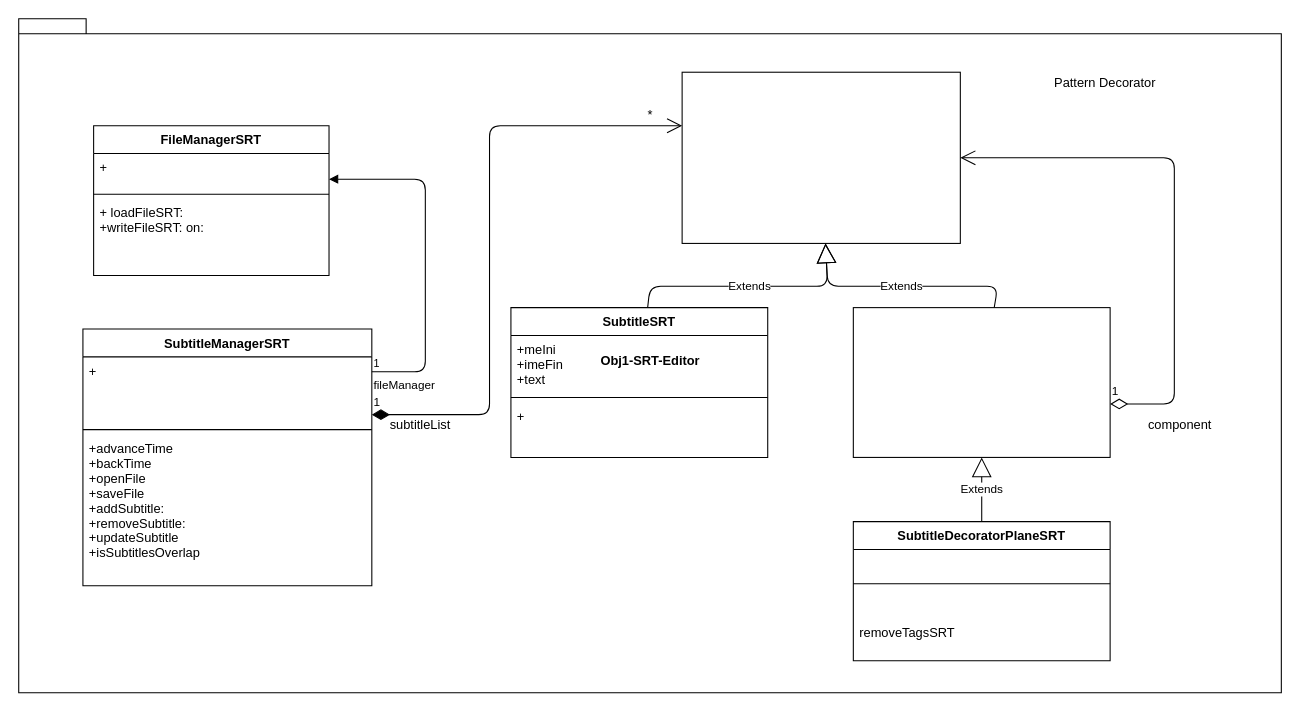
This 1300x712 diagram has some shape labels left out. The shapes that lost their labels are listed below. From the top down, each one's centre as x and y in pixels, then its label:
point 820,157: SubtitleComponentSRT +advanceTime + backTime +printSubtitle +validateTime
point 981,382: SubtitleDecoratorSRT +advanceTime + backTime +printSubtitle +validateTime
